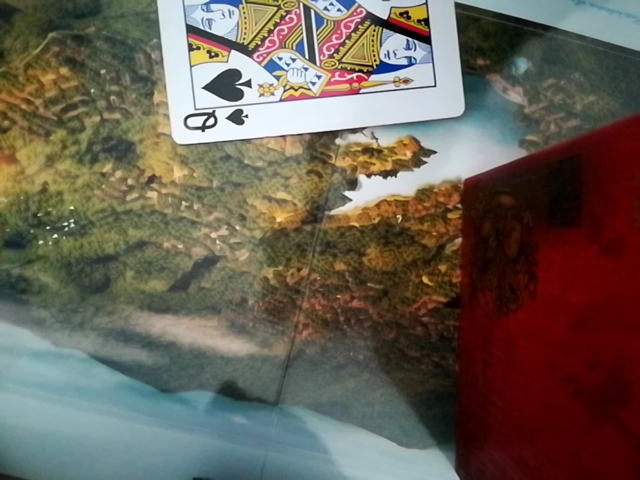ht q: (150, 0, 474, 148)
